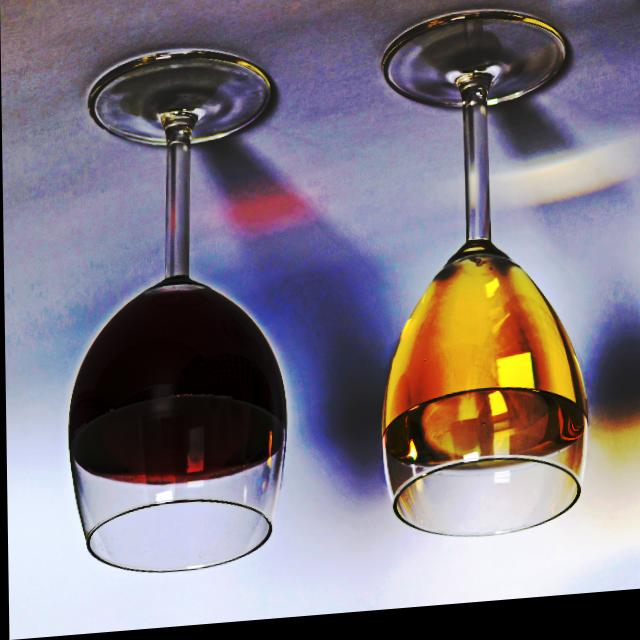drink: (62, 111, 293, 584), (377, 61, 591, 548)
